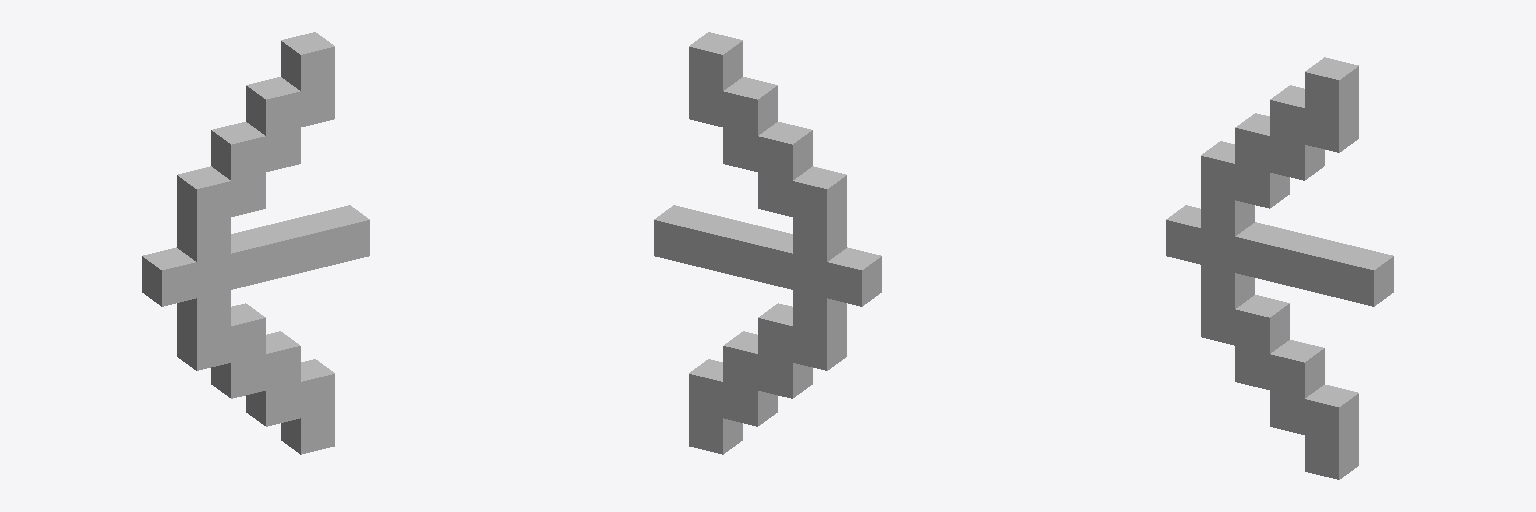
The model's file is Bow.obj.
The picture shows the model from 3 angles: view 1: azimuth 30°, elevation 25°; view 2: azimuth 150°, elevation 25°; view 3: azimuth 330°, elevation 25°; orthographic projection.
Parts seen in each view (by area): view 1: object 1; view 2: object 1; view 3: object 1.
Boxes of the visible parts, <box> form: object 1: <box>142,32,369,454</box>; object 1: <box>654,32,881,454</box>; object 1: <box>1166,57,1393,479</box>.
Bounding box in the file's own units: 0.6 × 1.1 × 0.1.